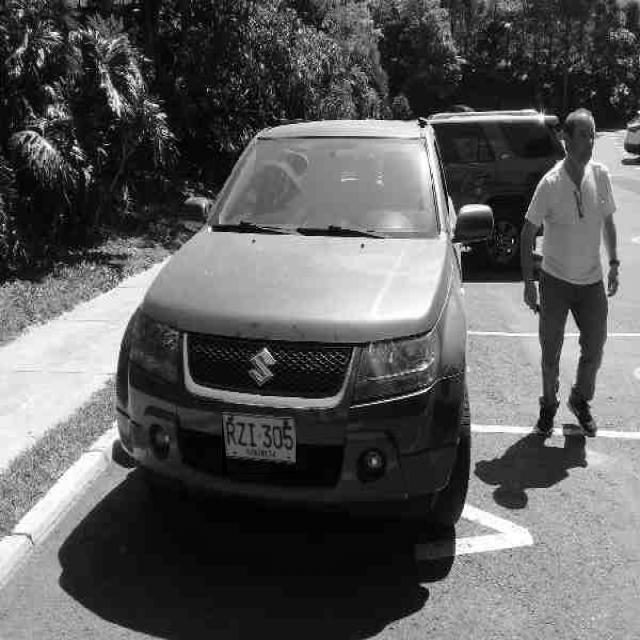plate: (222, 410, 296, 474)
